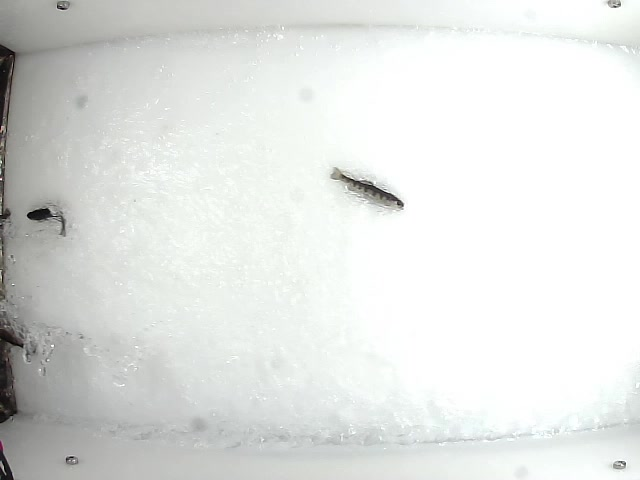fish: (329, 164, 410, 211), (25, 204, 68, 238)
